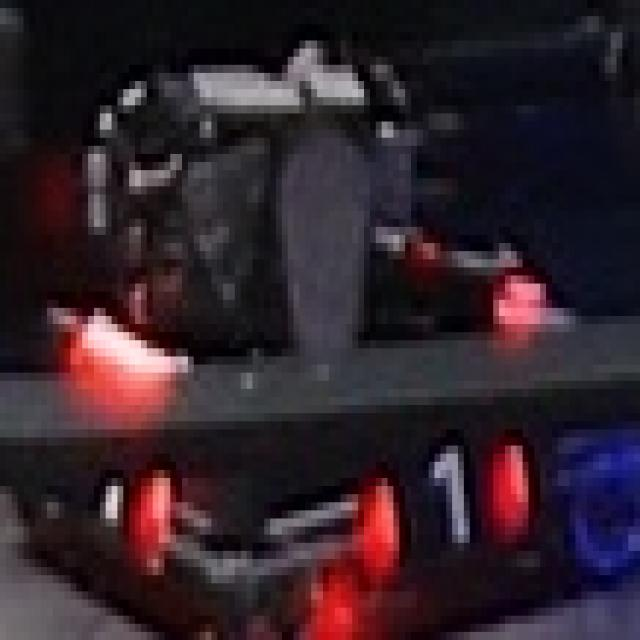R1: (352, 438, 534, 575)
